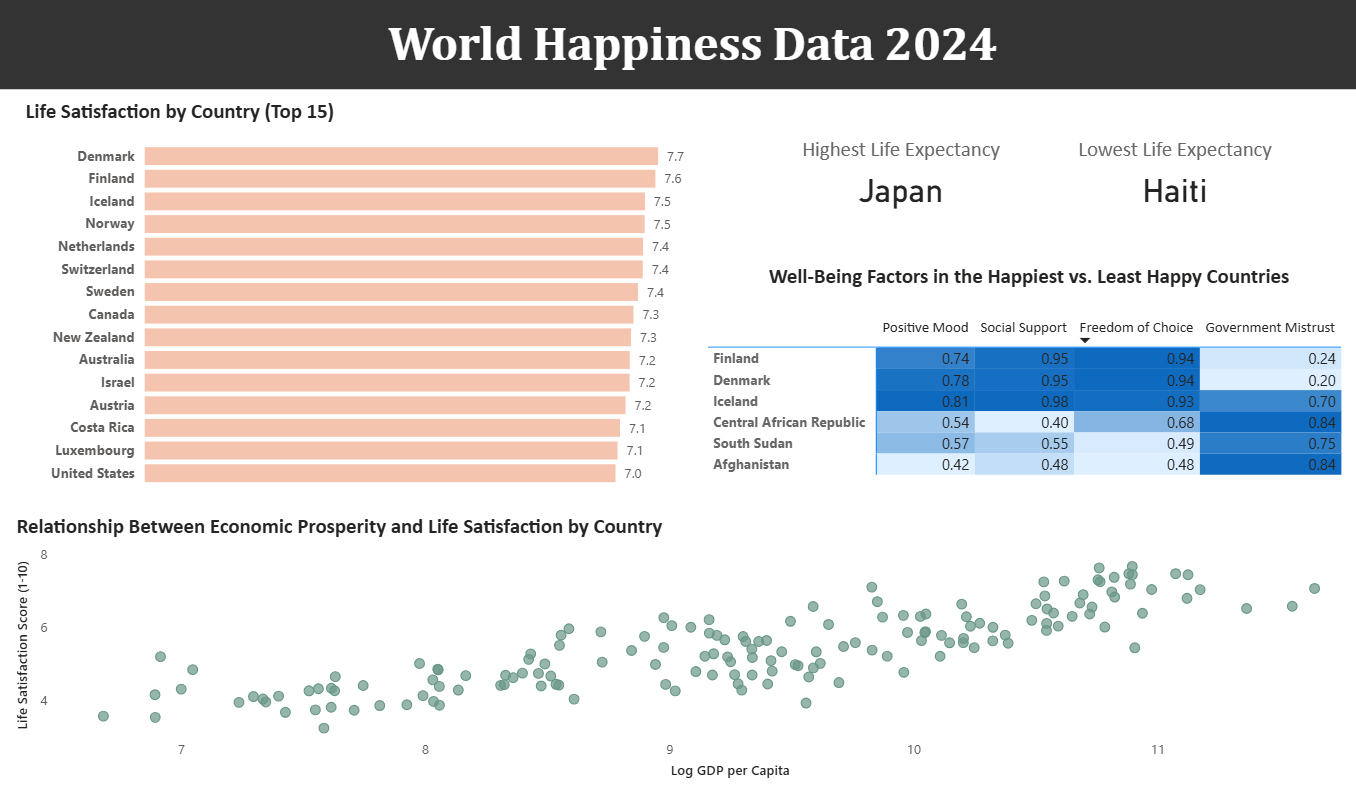

What the dashboard file says about the page in this screenshot:
{"tool":"powerbi","page":{"name":"Page 1","canvas":[1280,720],"ordinal":0},"visuals":[{"type":"textbox","box":[0,0,1280,90.2],"z":0},{"type":"clusteredBarChart","title":"Life Satisfaction by Country (Top 15)","fields":{"Category":["PowerBI.Country name"],"Y":["Avg(PowerBI.Life Ladder)"]},"box":[27.8,97.9,676,358.2],"z":1000},{"type":"scatterChart","title":"Relationship Between Economic Prosperity and Life Satisfaction by Country","fields":{"X":["Avg(PowerBI.Log GDP per capita)"],"Y":["Avg(PowerBI.Life Ladder)"],"Category":["PowerBI.Country name","PowerBI.Healthy life expectancy at birth"]},"box":[19.8,470.4,1260.4,243.3],"z":2000},{"type":"card","title":"Highest Life Expectancy","fields":{"Values":["PowerBI.Country – Highest Life Expectancy"]},"box":[676,132,285.5,70.9],"z":3000},{"type":"card","title":"Lowest Life Expectancy","fields":{"Values":["PowerBI.Country – Lowest Life Expectancy"]},"box":[938.2,132,253.2,70.9],"z":4000},{"type":"pivotTable","fields":{"Rows":["PowerBI.Country name"],"Values":["PowerBI.AVG Positive","PowerBI.AVG Social Support","PowerBI.AVG Freedom","PowerBI.AVG Corruption"]},"box":[640.1,289.1,613.2,160.7],"z":5000},{"type":"textbox","box":[684.1,240.6,499.2,36.8],"z":6000}]}

Visuals, with their boxes on the page's 1280x720 design canvas (x1, y1, x2, y2). These are canvas units, not pixel positions in the 1356x790 screenshot, which may show the page scaled, cropped or inside an application window:
textbox: 0,0,1280,90
"Life Satisfaction by Country (Top 15)" clusteredBarChart: 28,98,704,456
"Relationship Between Economic Prosperity and Life Satisfaction by Country" scatterChart: 20,470,1280,714
"Highest Life Expectancy" card: 676,132,962,203
"Lowest Life Expectancy" card: 938,132,1191,203
pivotTable - PowerBI.Country name x PowerBI.AVG Positive: 640,289,1253,450
textbox: 684,241,1183,277
